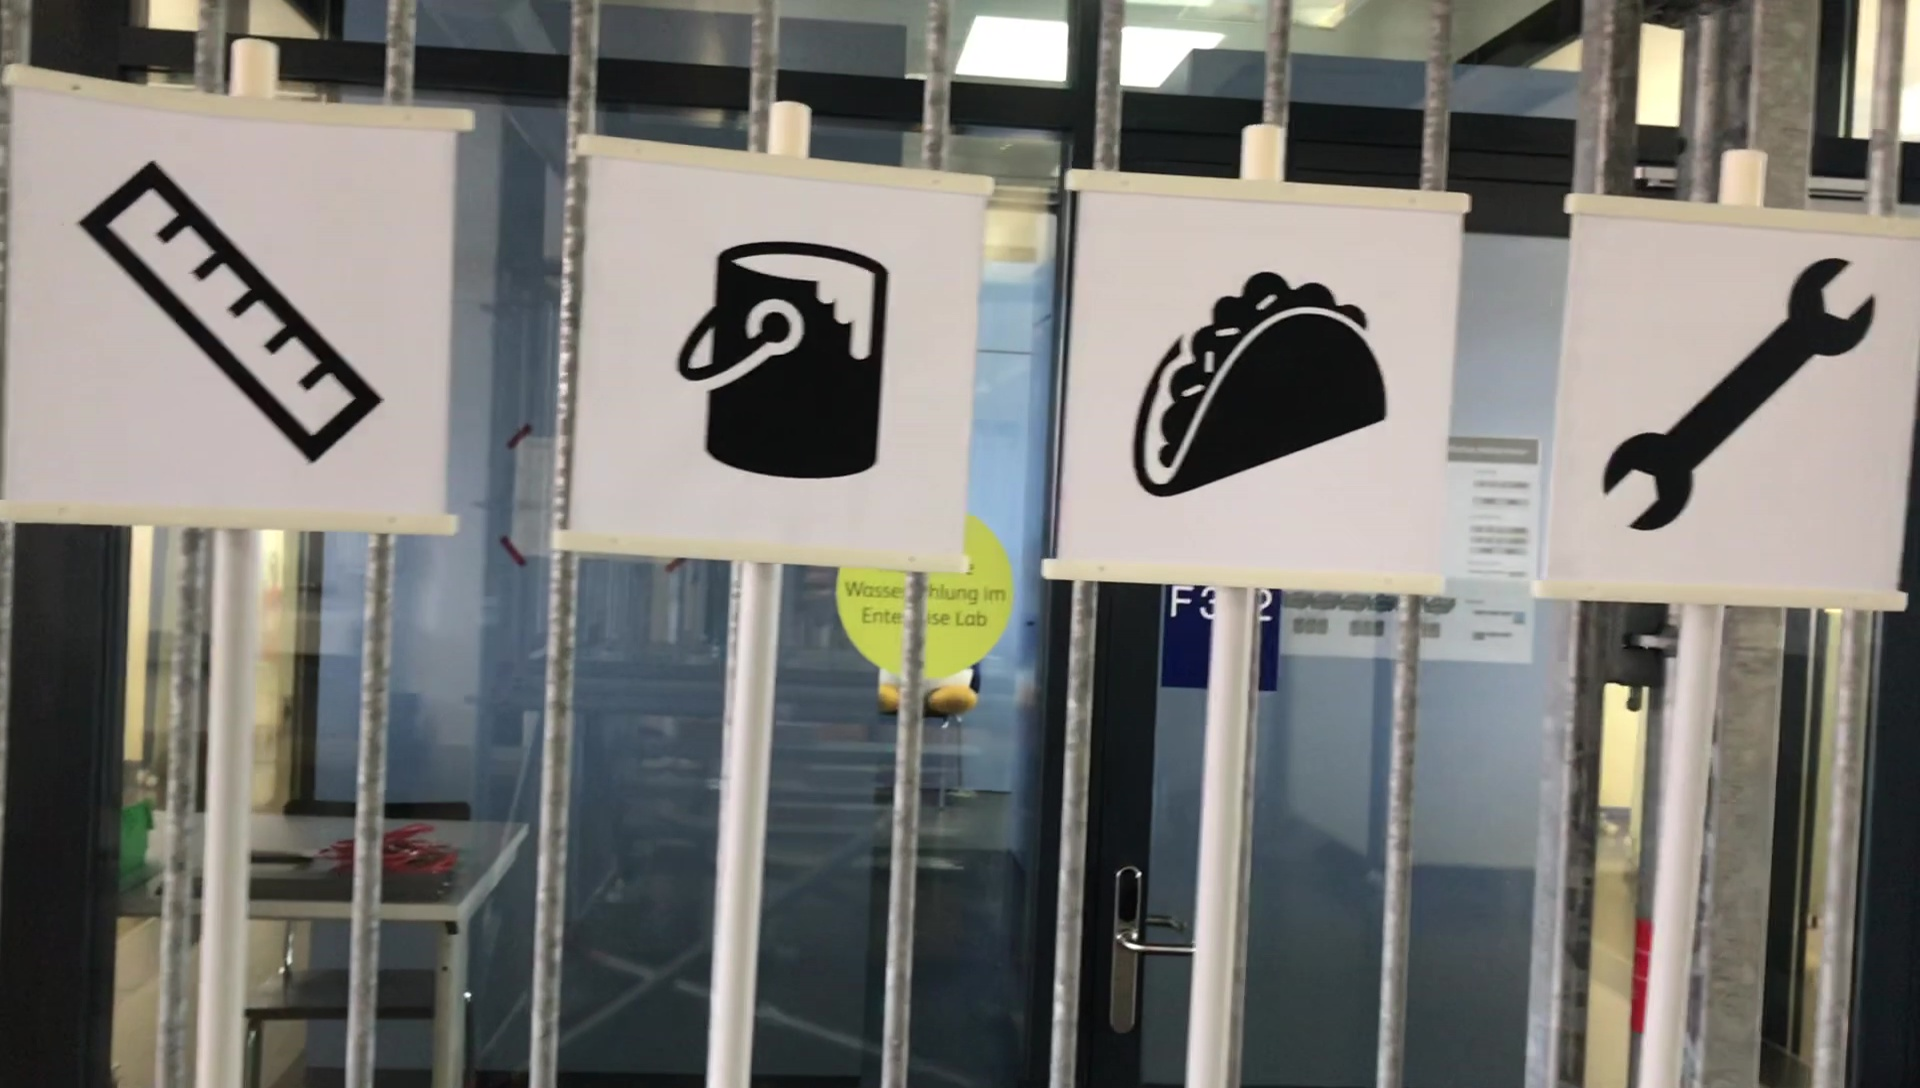bucket: (673, 232, 891, 488)
ruler: (66, 156, 389, 484)
taco: (1131, 268, 1389, 510)
wrench: (1604, 248, 1888, 530)
